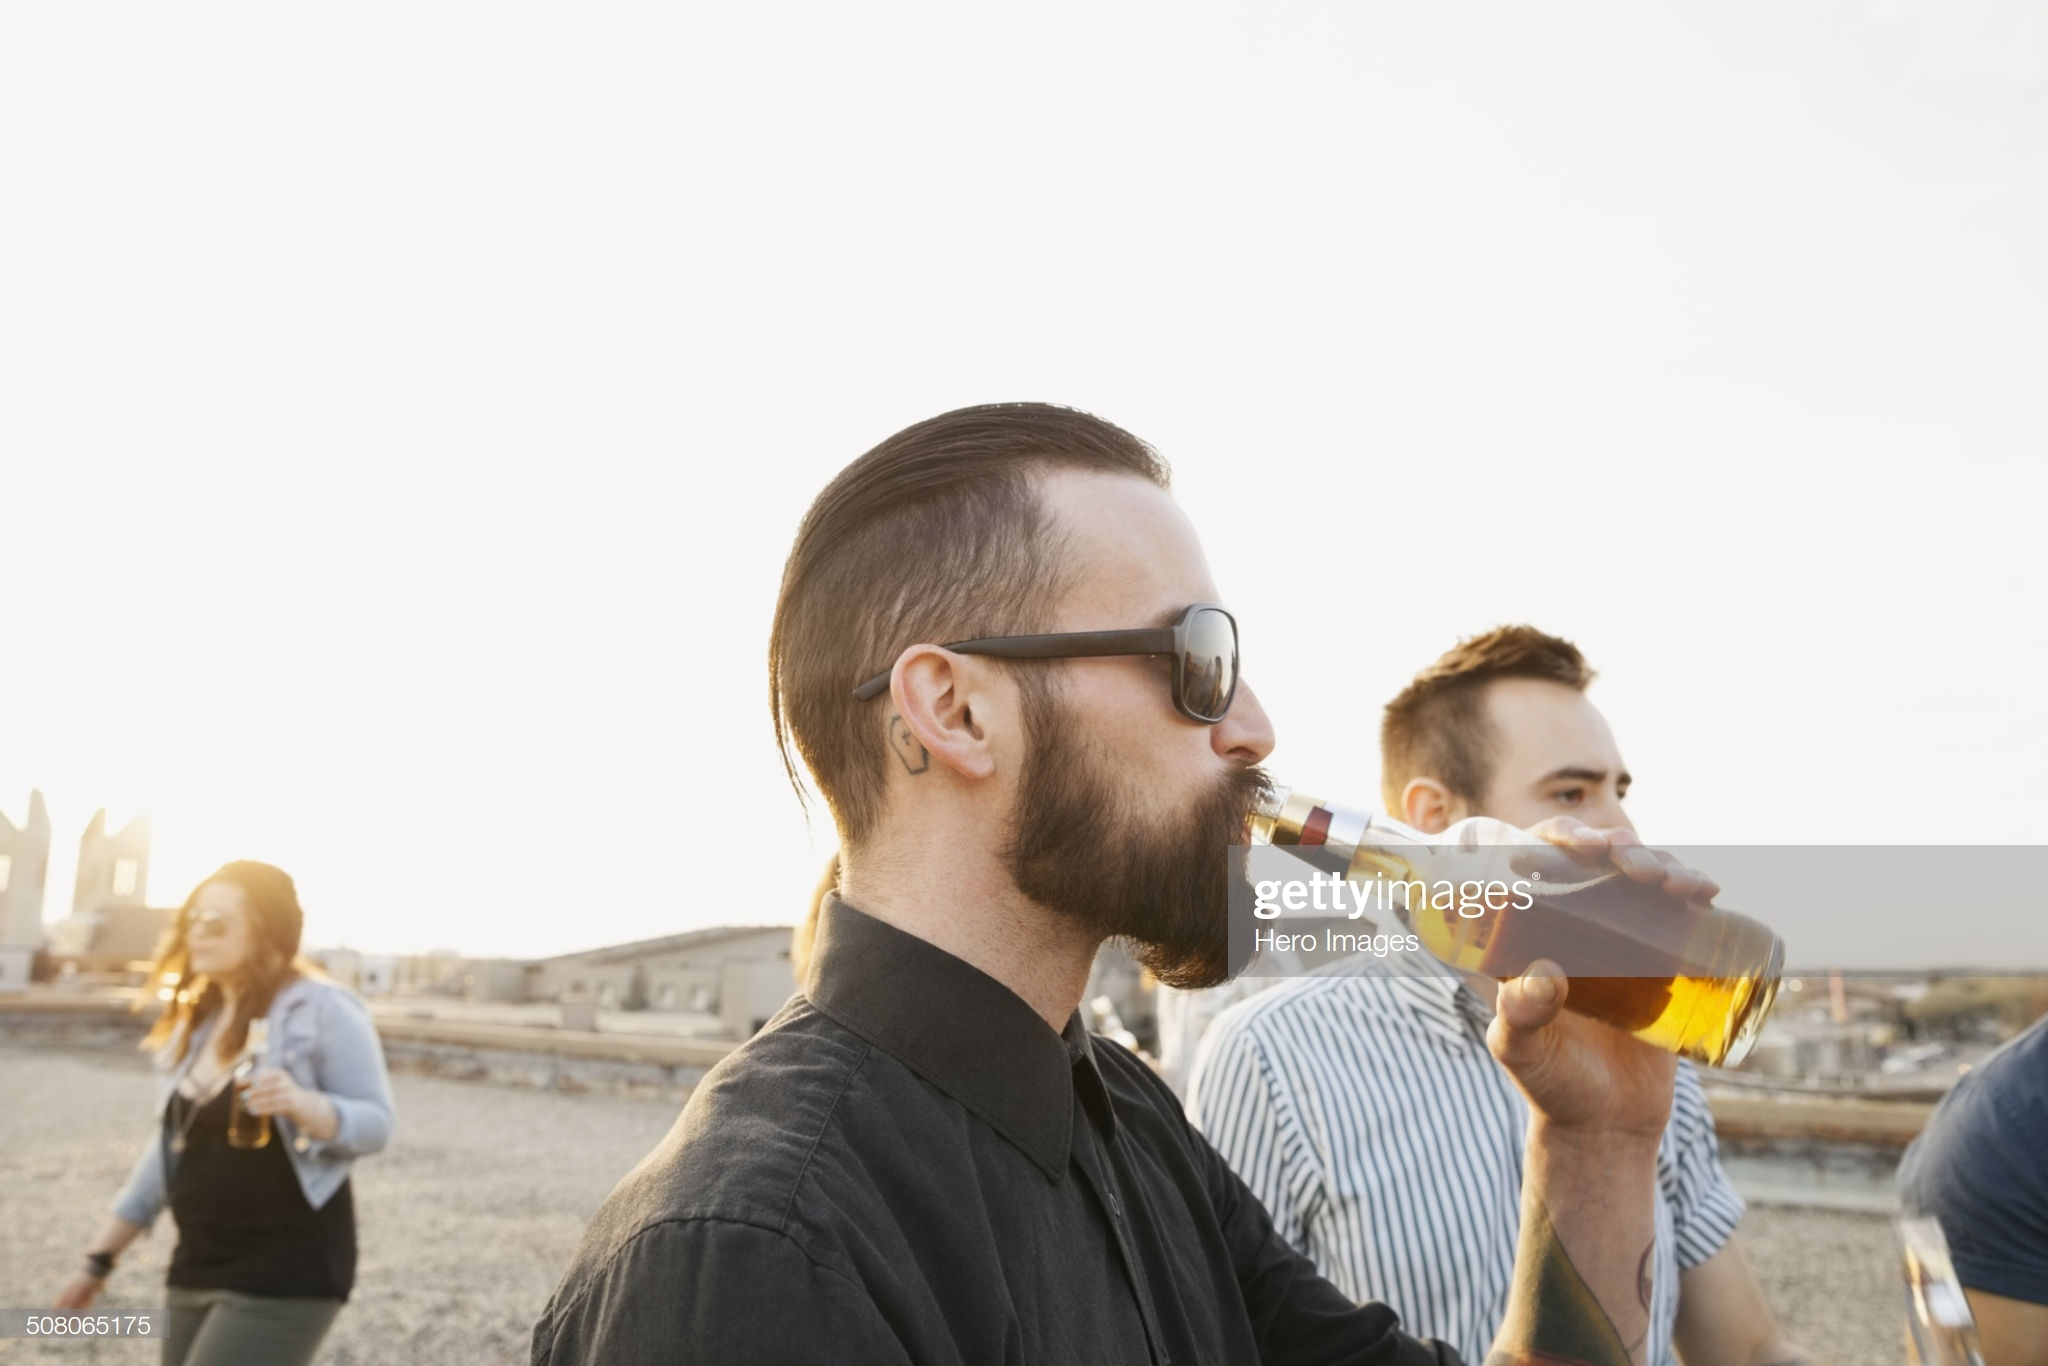beerBottle: (1250, 800, 1798, 1084)
